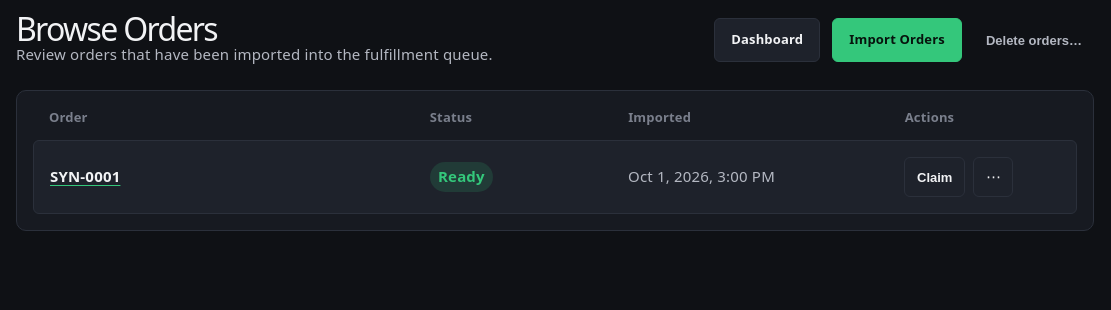
Test: OrdersPage deletion › says why a claimed-before order can't be deleted instead of offering it (FR-021)
Click the button named "actions" at (993, 177), box [973,157,1013,197]
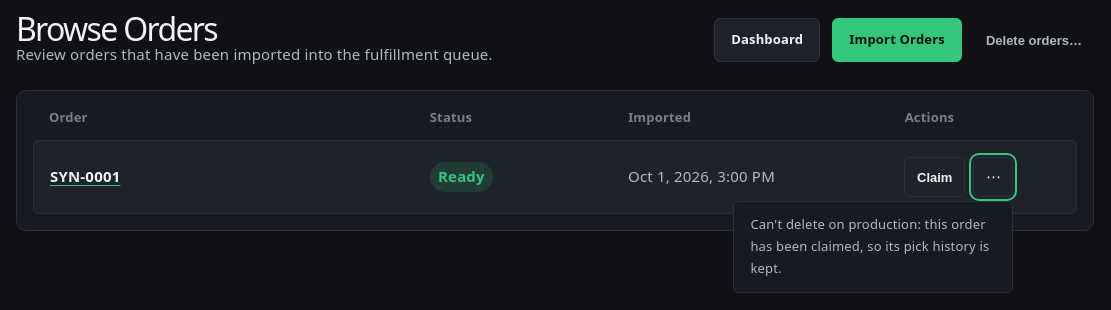
Expected: the text "Can't delete on production: this order has been claimed, so its pick history is kept." is shown, [750,215,989,277]
